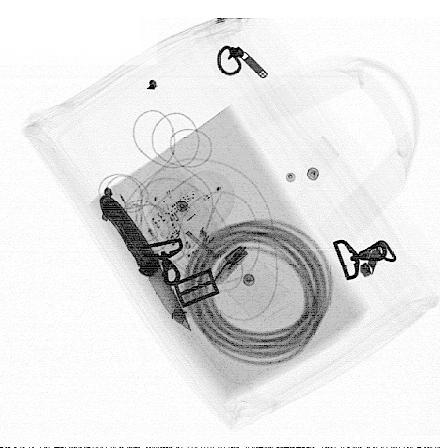Knife: (98, 195, 192, 333)
